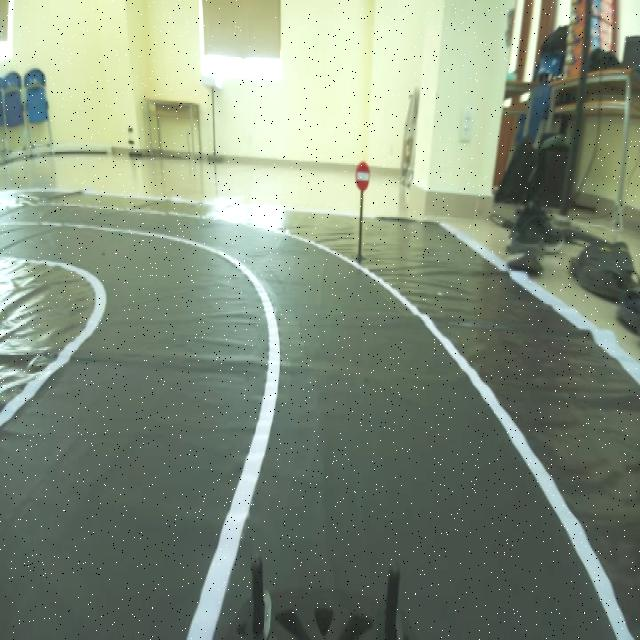no_entry: (351, 157, 376, 198)
